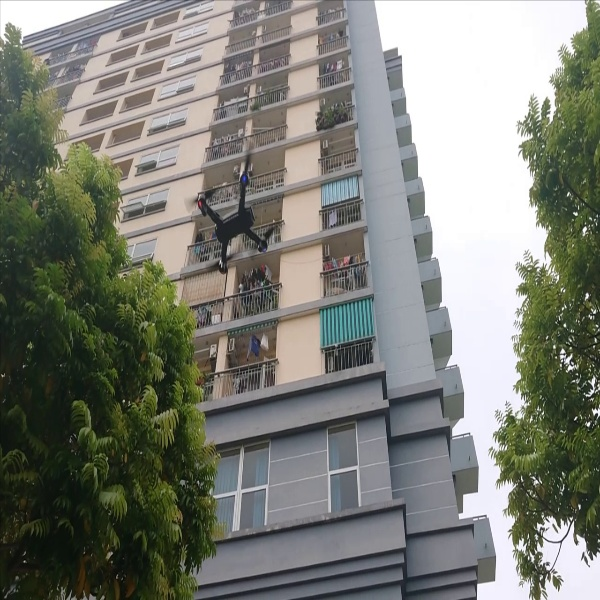drone: (183, 147, 285, 276)
